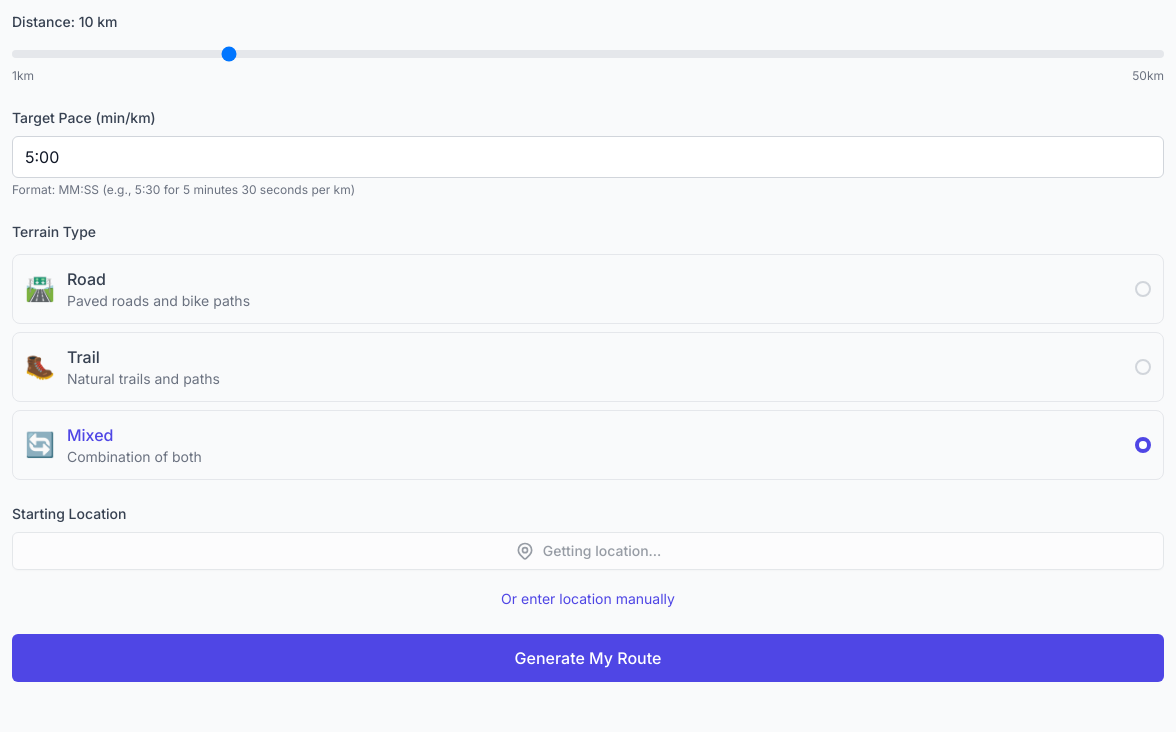
it: SearchForm › validates pace format
This screenshot has width=1176, height=732.
In the field showing "5:00": [588, 157] box [12,136,1164,178], type "invalid"
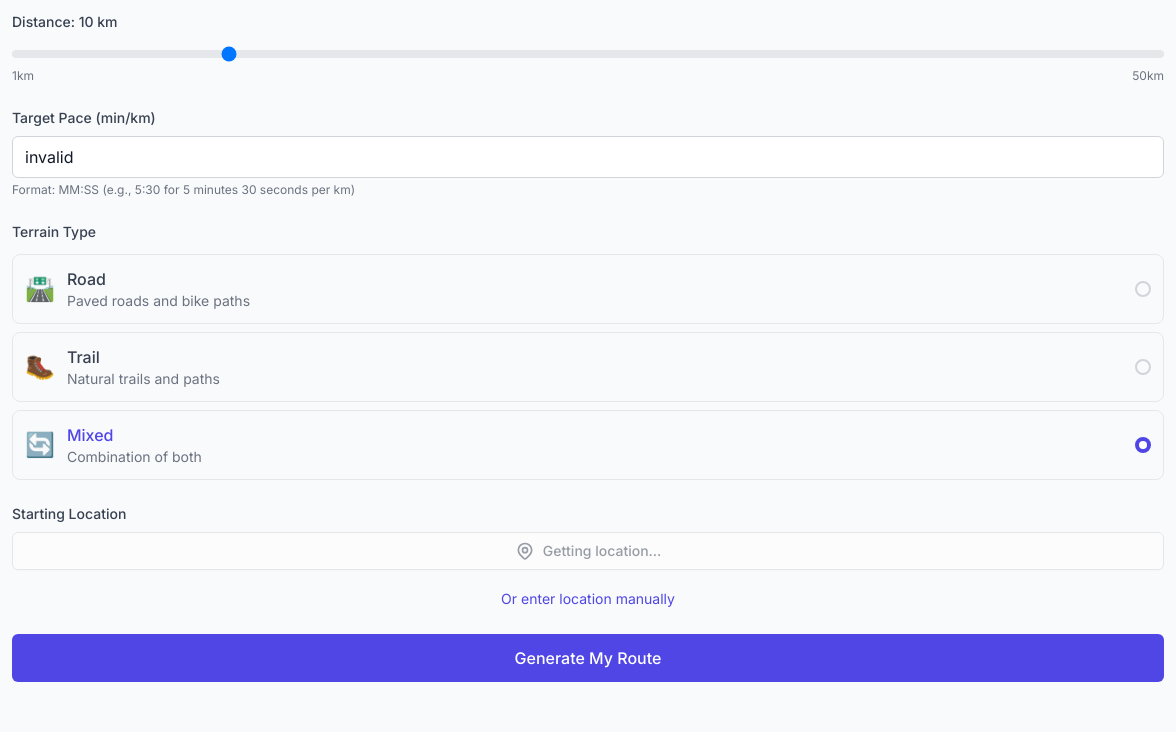
Click the button "Generate My Route": [588, 658] box [12,634,1164,682]
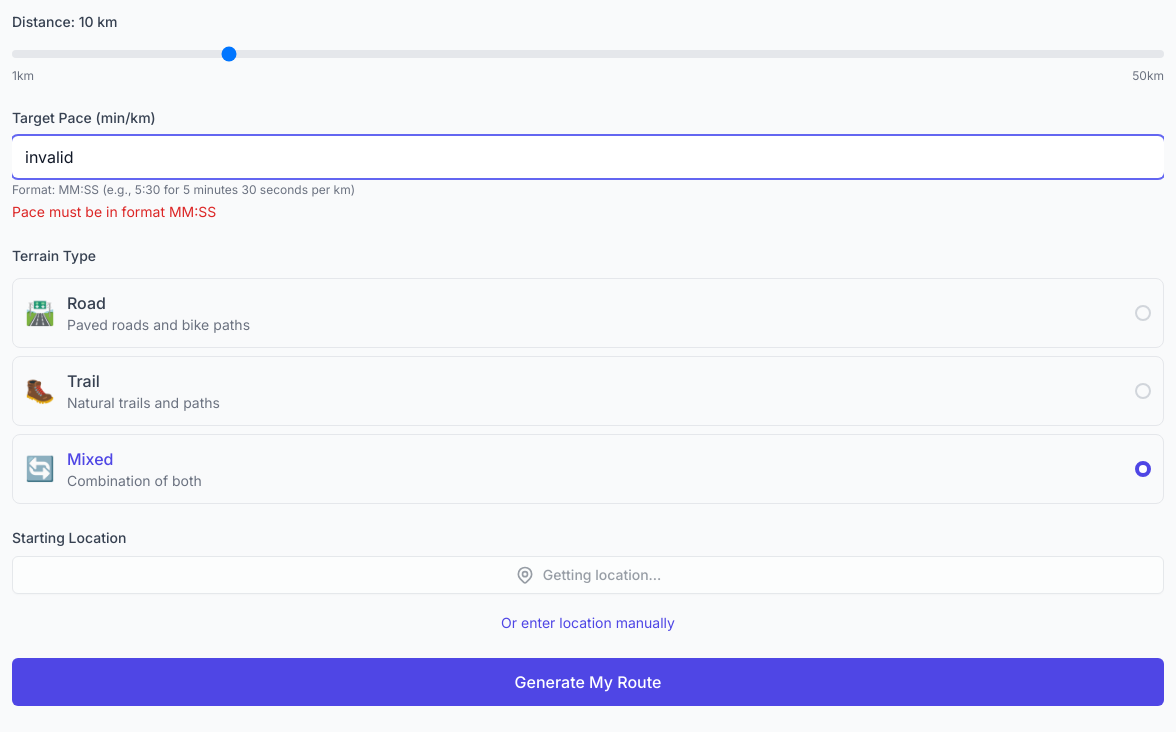
Now the text "Pace must be in format MM:SS" is shown, box [12,203,216,220]
